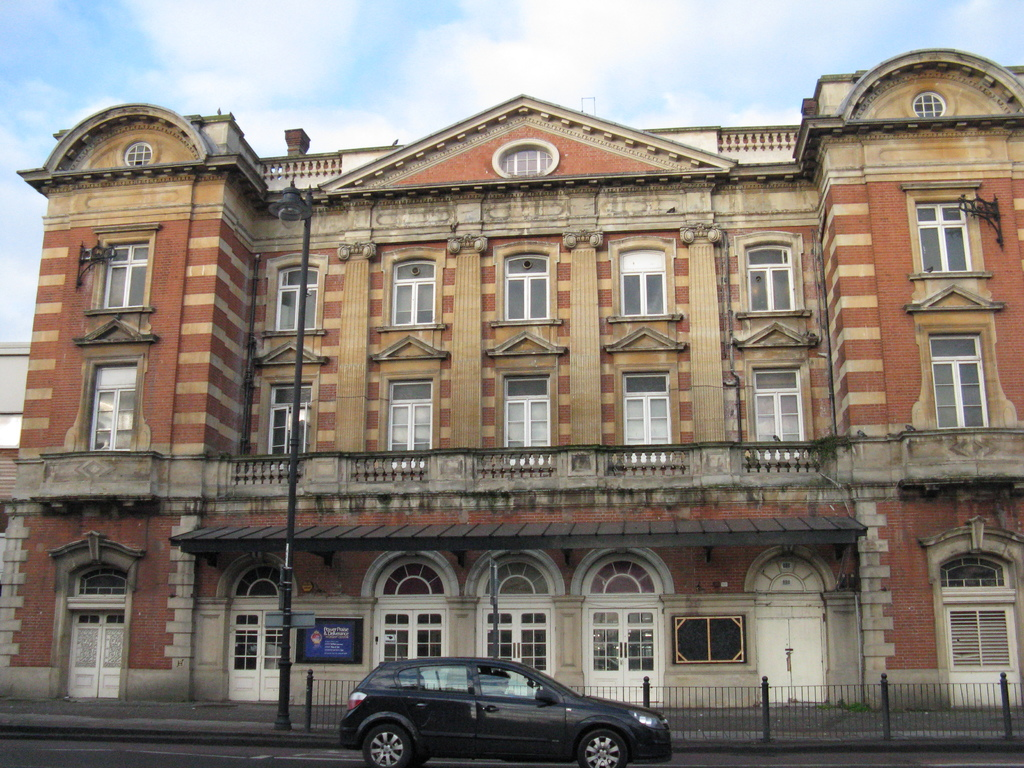Car: (337, 652, 673, 767)
